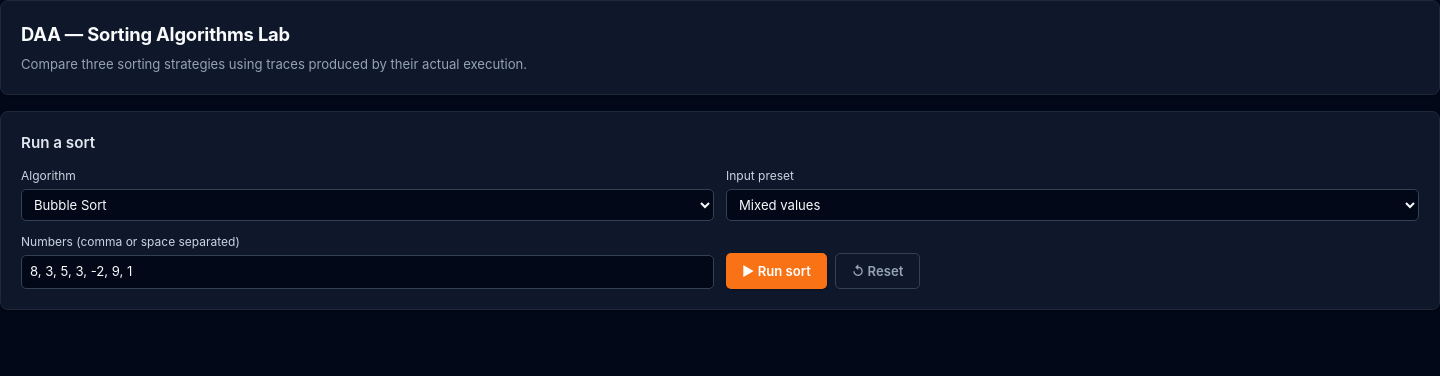
Scenario: SortingLab › rejects malformed comma-separated input
This screenshot has width=1440, height=376.
Replace the text in the field named "Numeric input" with "1,,2": {"x": 368, "y": 272} [21, 255, 714, 289]
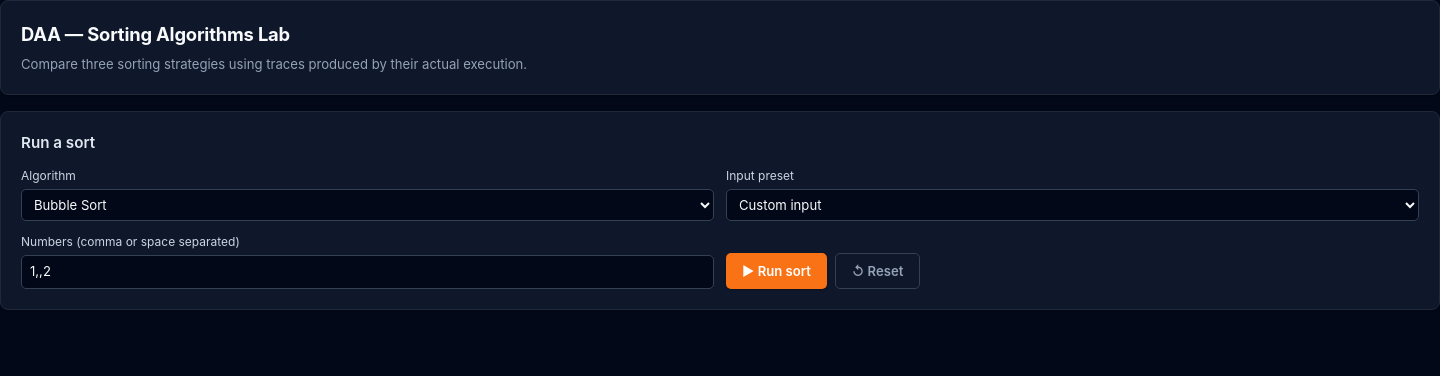
Click the button "▶ Run sort": {"x": 776, "y": 271} [726, 253, 827, 289]
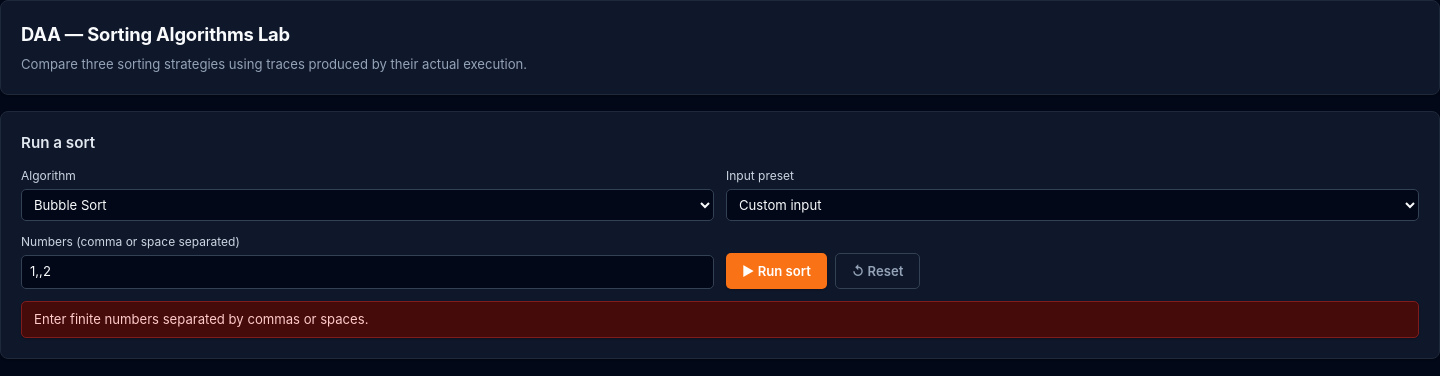
Expected: the message reads "Enter finite numbers separated by commas or spaces.", [34, 311, 368, 327]
